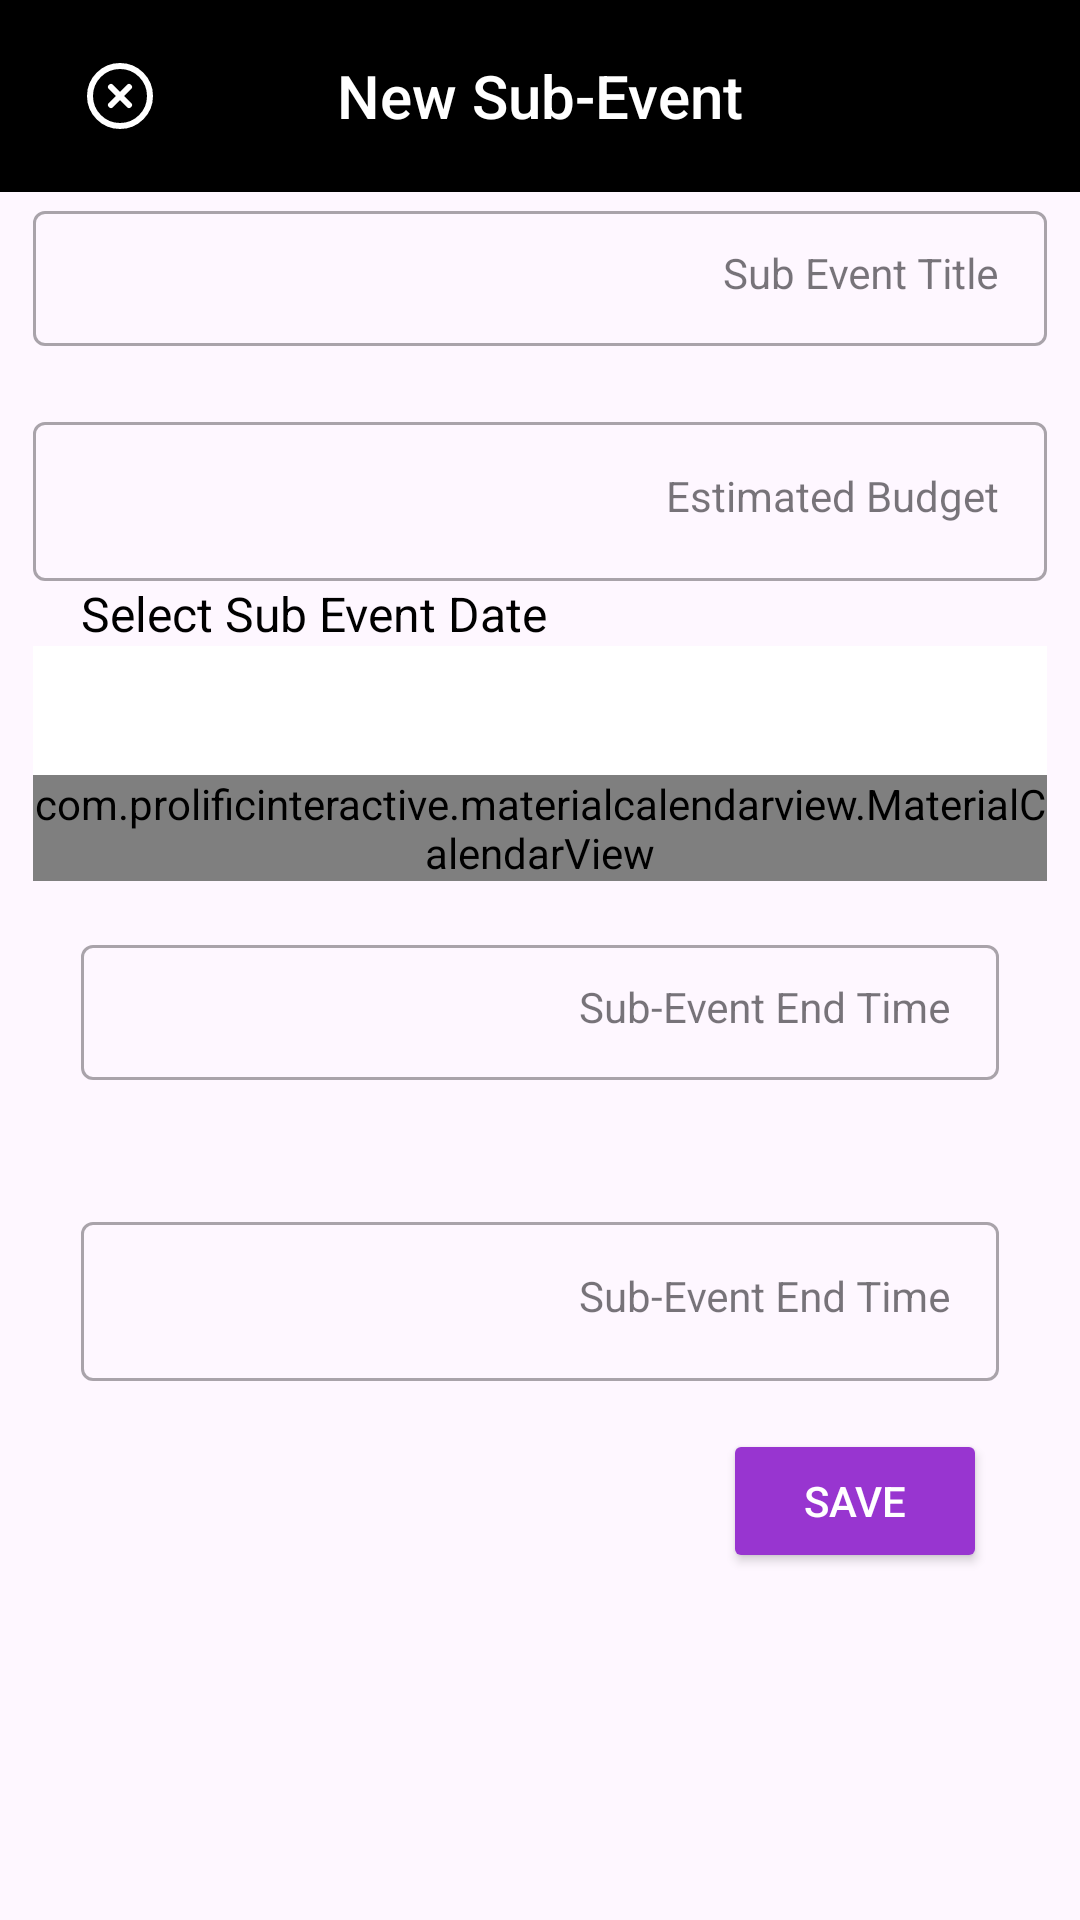

Point at icon controls on the screen. Image size 1080×1920, points as (x,y).
Exit: (120,96)
